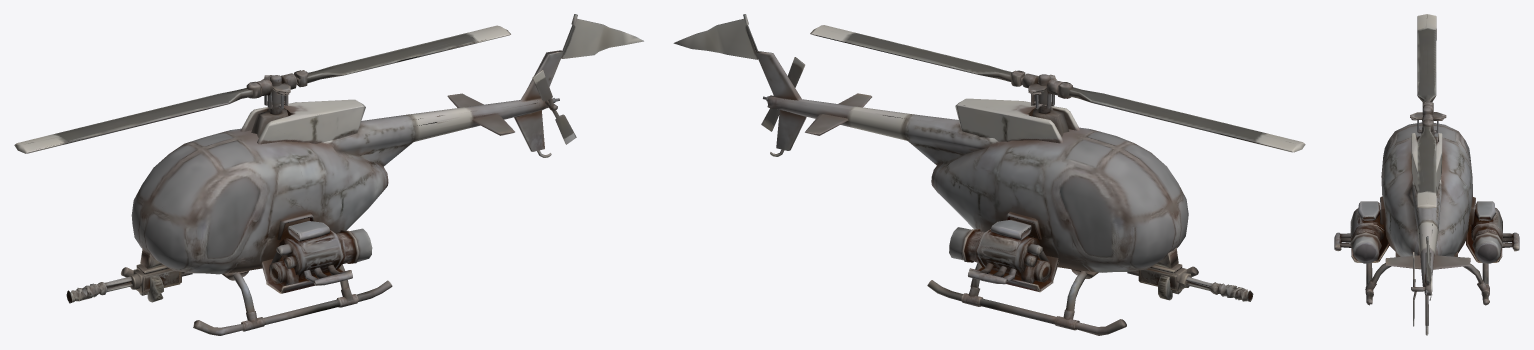
File: Chopper.glb
The picture shows the model from 3 angles, left to right: view 1: azimuth 30°, elevation 25°; view 2: azimuth 150°, elevation 25°; view 3: azimuth 270°, elevation 25°; orthographic projection. The views are drawn at different scales.
Visible parts, largest first — view 1: geometry_0; view 2: geometry_0; view 3: geometry_0.
Boxes of the visible parts, x1,y1,x2,y2 form: geometry_0: (14,14,643,335); geometry_0: (673,14,1305,335); geometry_0: (1334,14,1519,335).
Bounding box in the file's own units: 0.9575 × 0.3091 × 0.3018.
1 material, 1 textured.
